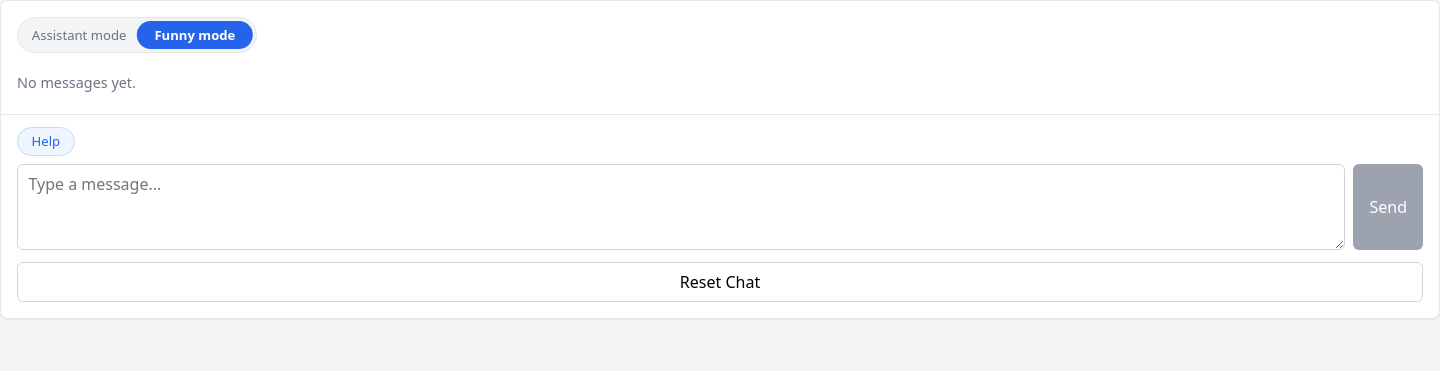
ChatWindow normal mode (funny mode off) fallback › still shows the error message for an unrecognized failure
Expected: the text box with test id "chat-input" showing "Type a message…" is enabled, [17,164,1346,250]
Click the checkbox with test id "funny-mode-toggle": (137, 35) [17,17,257,53]
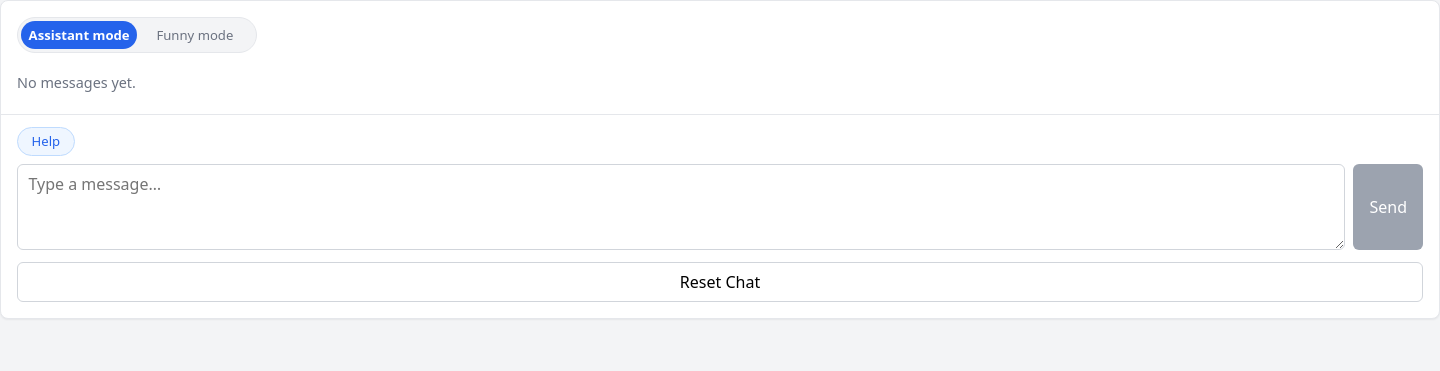
In the text box with test id "chat-input" showing "Type a message…": (681, 207) [17,164,1346,250], type "trigger a failure"
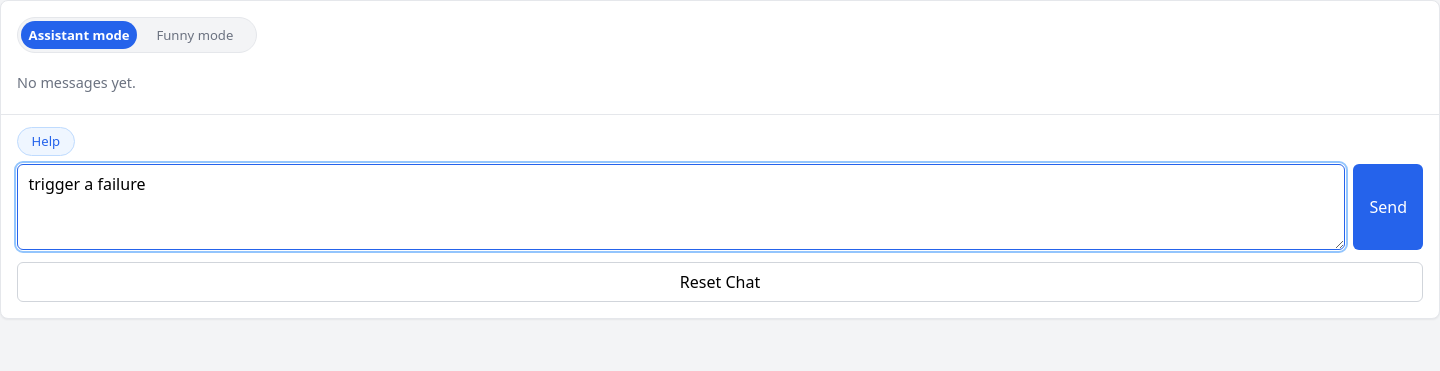
Click the button with test id "send-button": (1388, 207) [1354,164,1423,250]
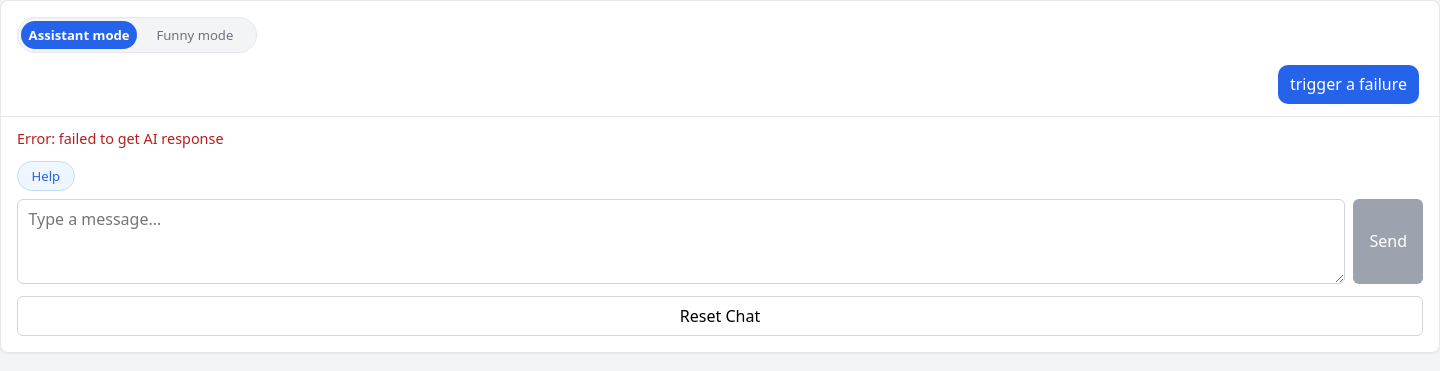
Expected: the text with test id "error-message" reads "Error: failed to get AI response", [17,129,224,148]
